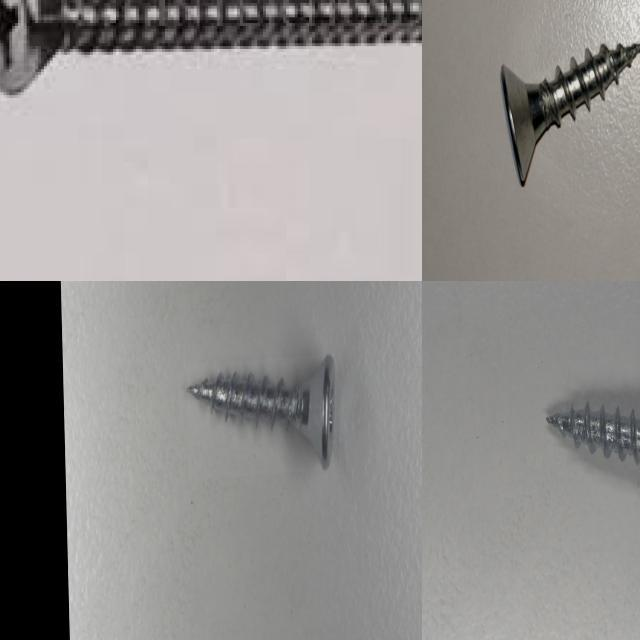Screw: (0, 0, 422, 98), (500, 43, 640, 185), (188, 355, 335, 469), (545, 388, 640, 508)
